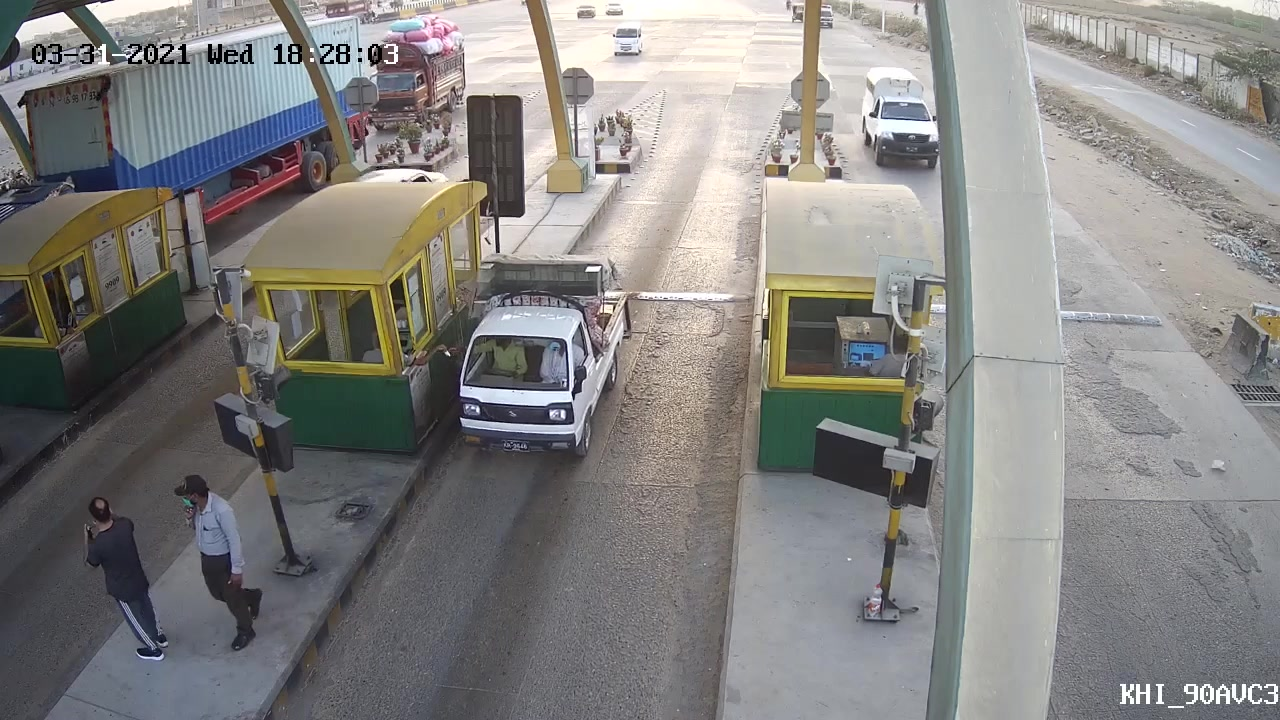F1: (444, 250, 636, 456)
